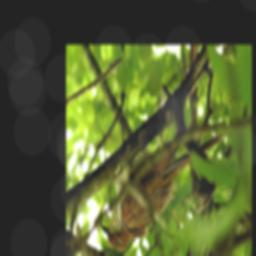Cuckoo: (100, 131, 226, 255)
